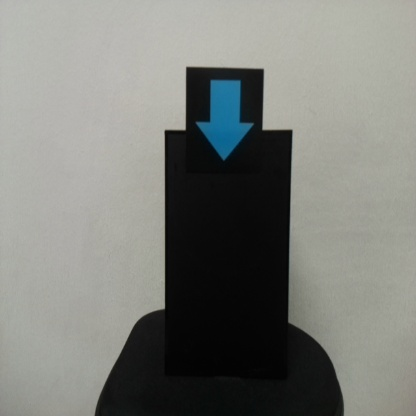id_2: (186, 67, 264, 176)
